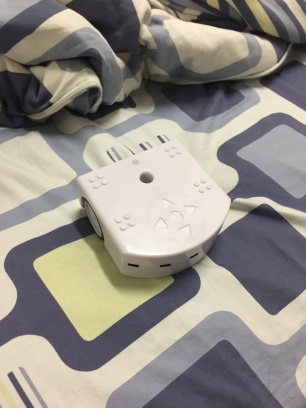thymio: (64, 131, 236, 282)
